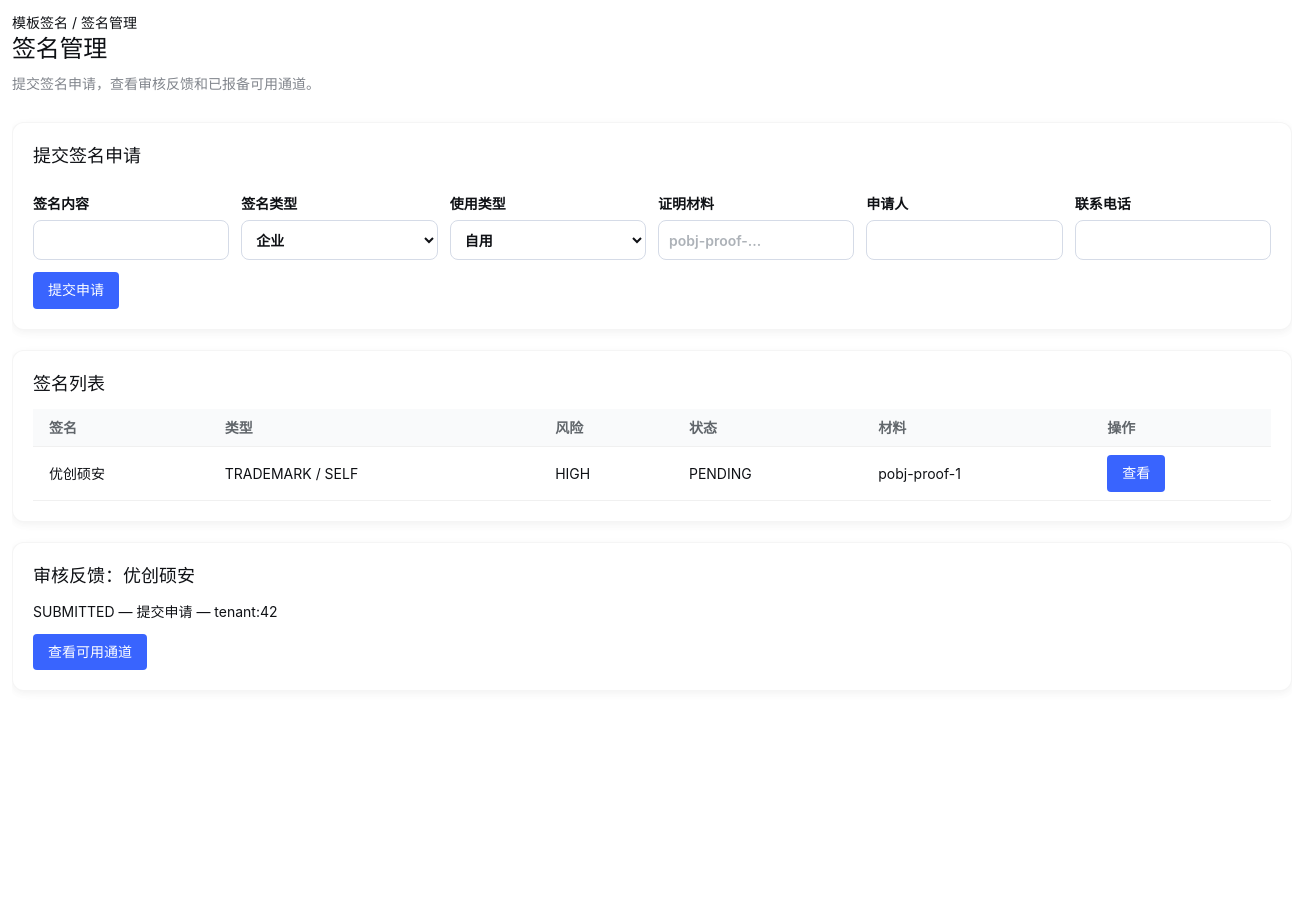
Phase 12 signature lifecycle UI › submits a complete tenant signature application and shows feedback history
Expected: the element with test id "tenant-signature-lifecycle-signatures-history" shows "SUBMITTED", [33,603,115,620]
Type "新商标" into the field labelled "签名内容". click: (131, 240)
box: [33,220,229,260]
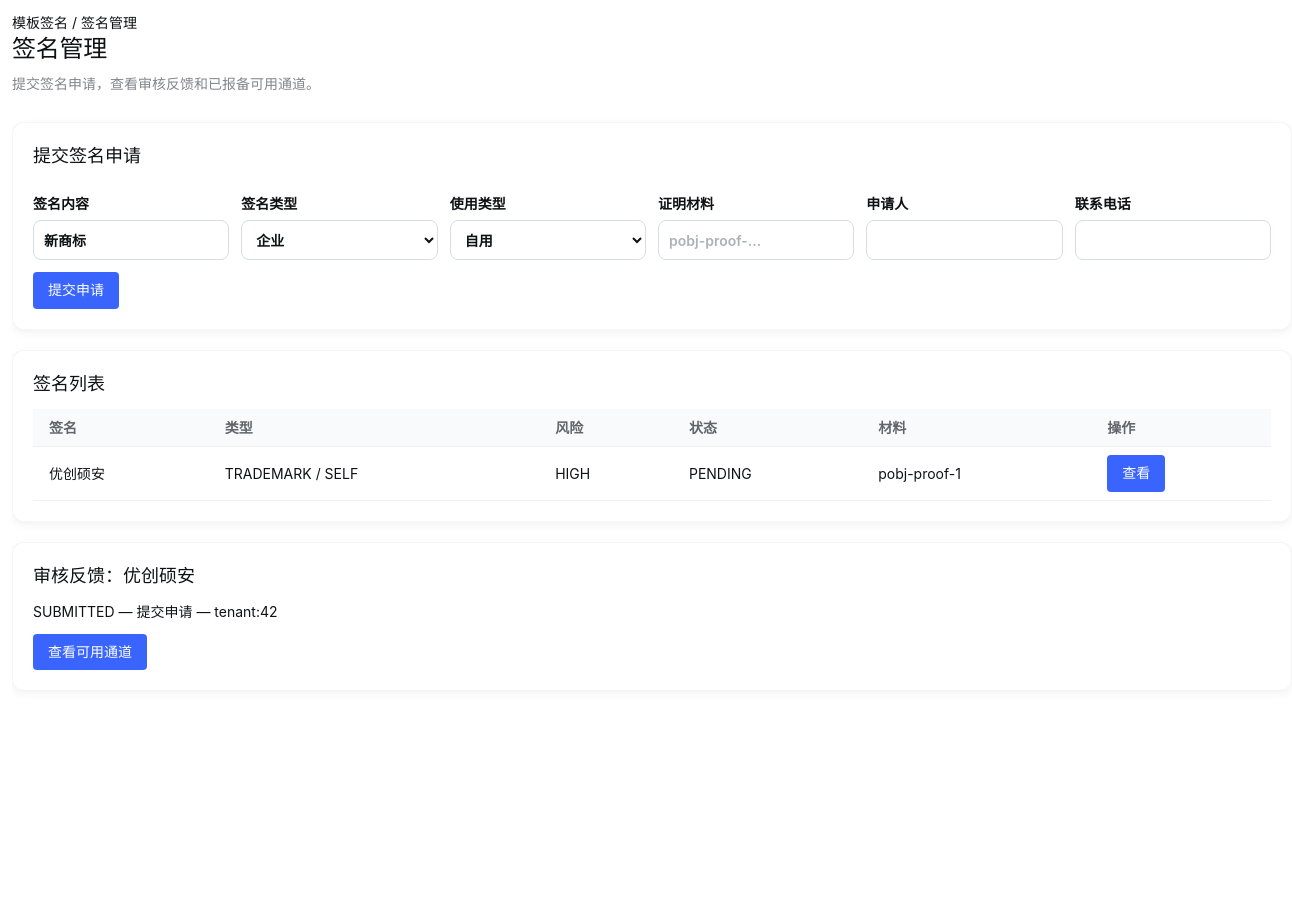
Select "商标" in the dropdown labelled "签名类型". click: (339, 240)
box: [241,220,438,260]
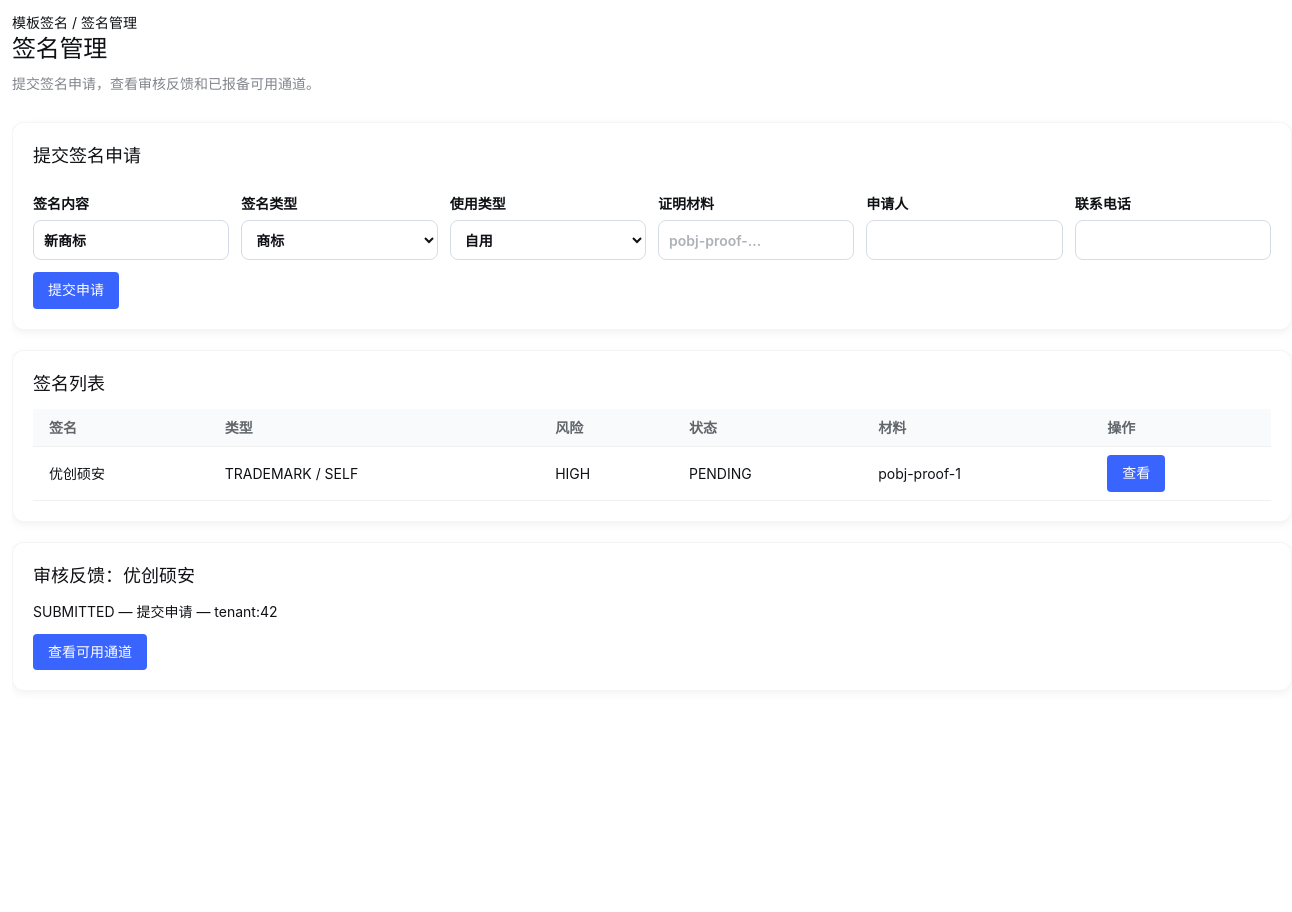
Type "pobj-proof-2" into the field labelled "证明材料". click: (756, 240)
box: [658,220,854,260]
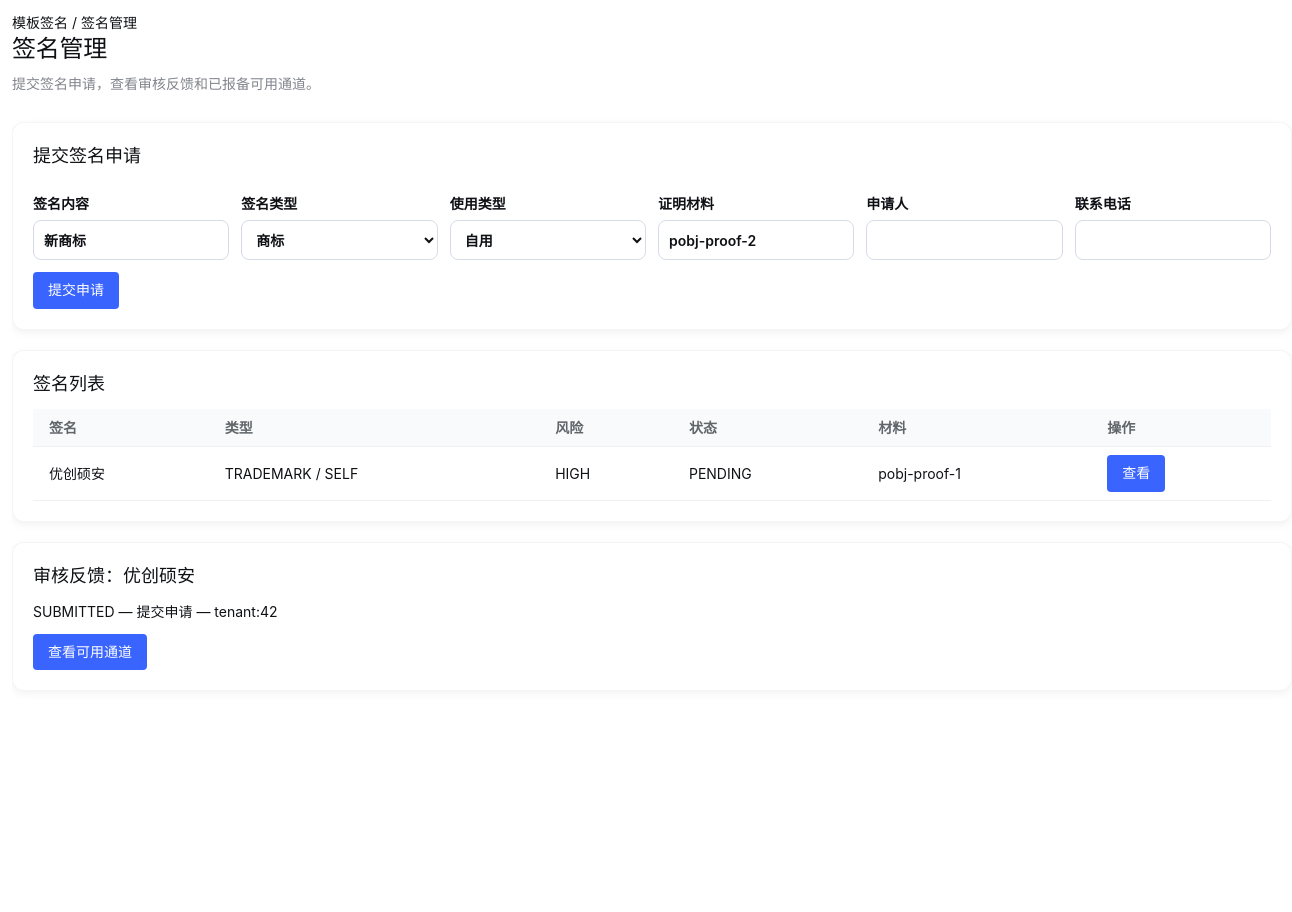
Click the button with test id "tenant-signature-lifecycle-signatures-application-submit". click: (76, 290)
box: [33,272,119,309]
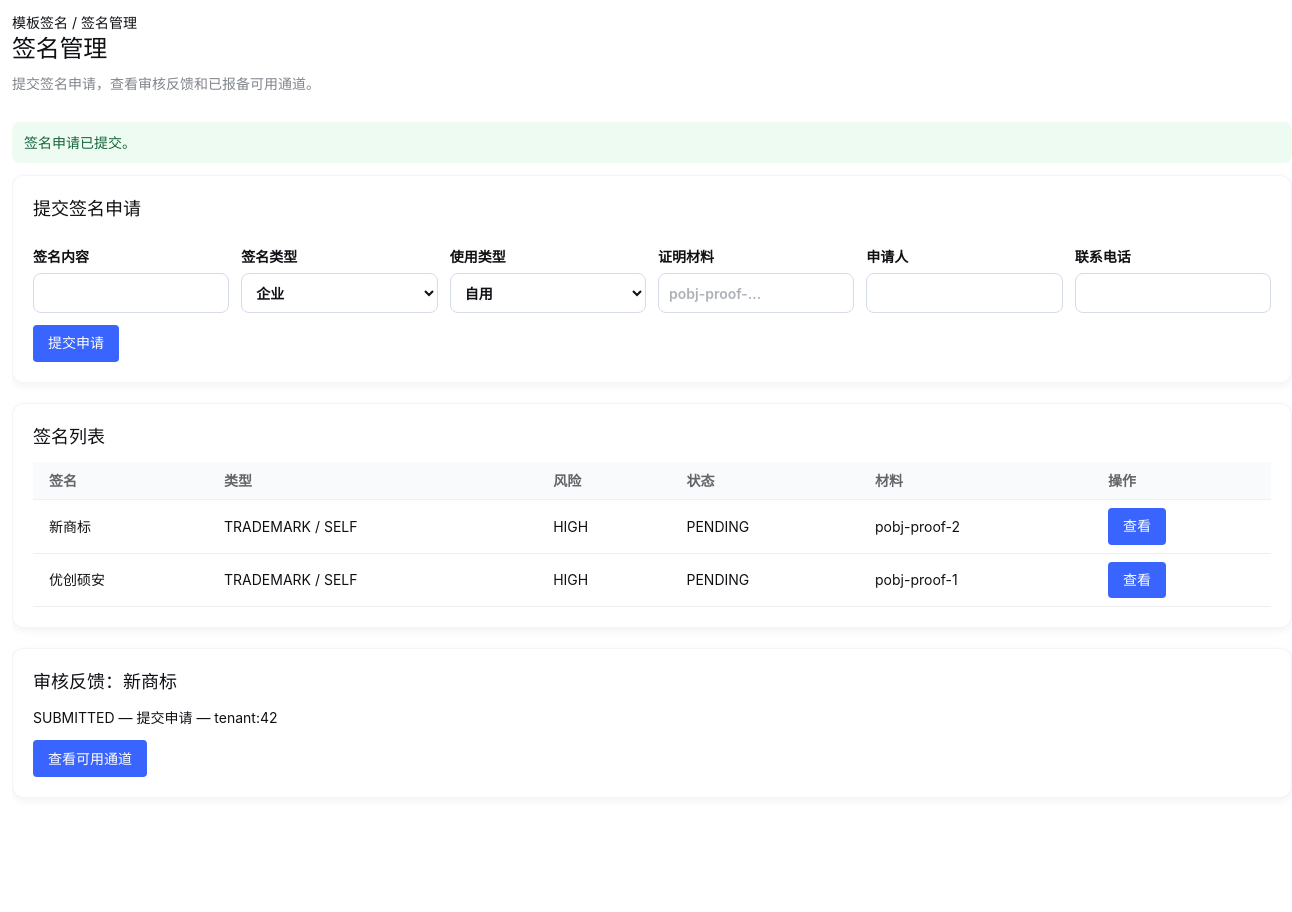
Now the text "签名申请已提交。" is shown, box [12,122,1291,163]
